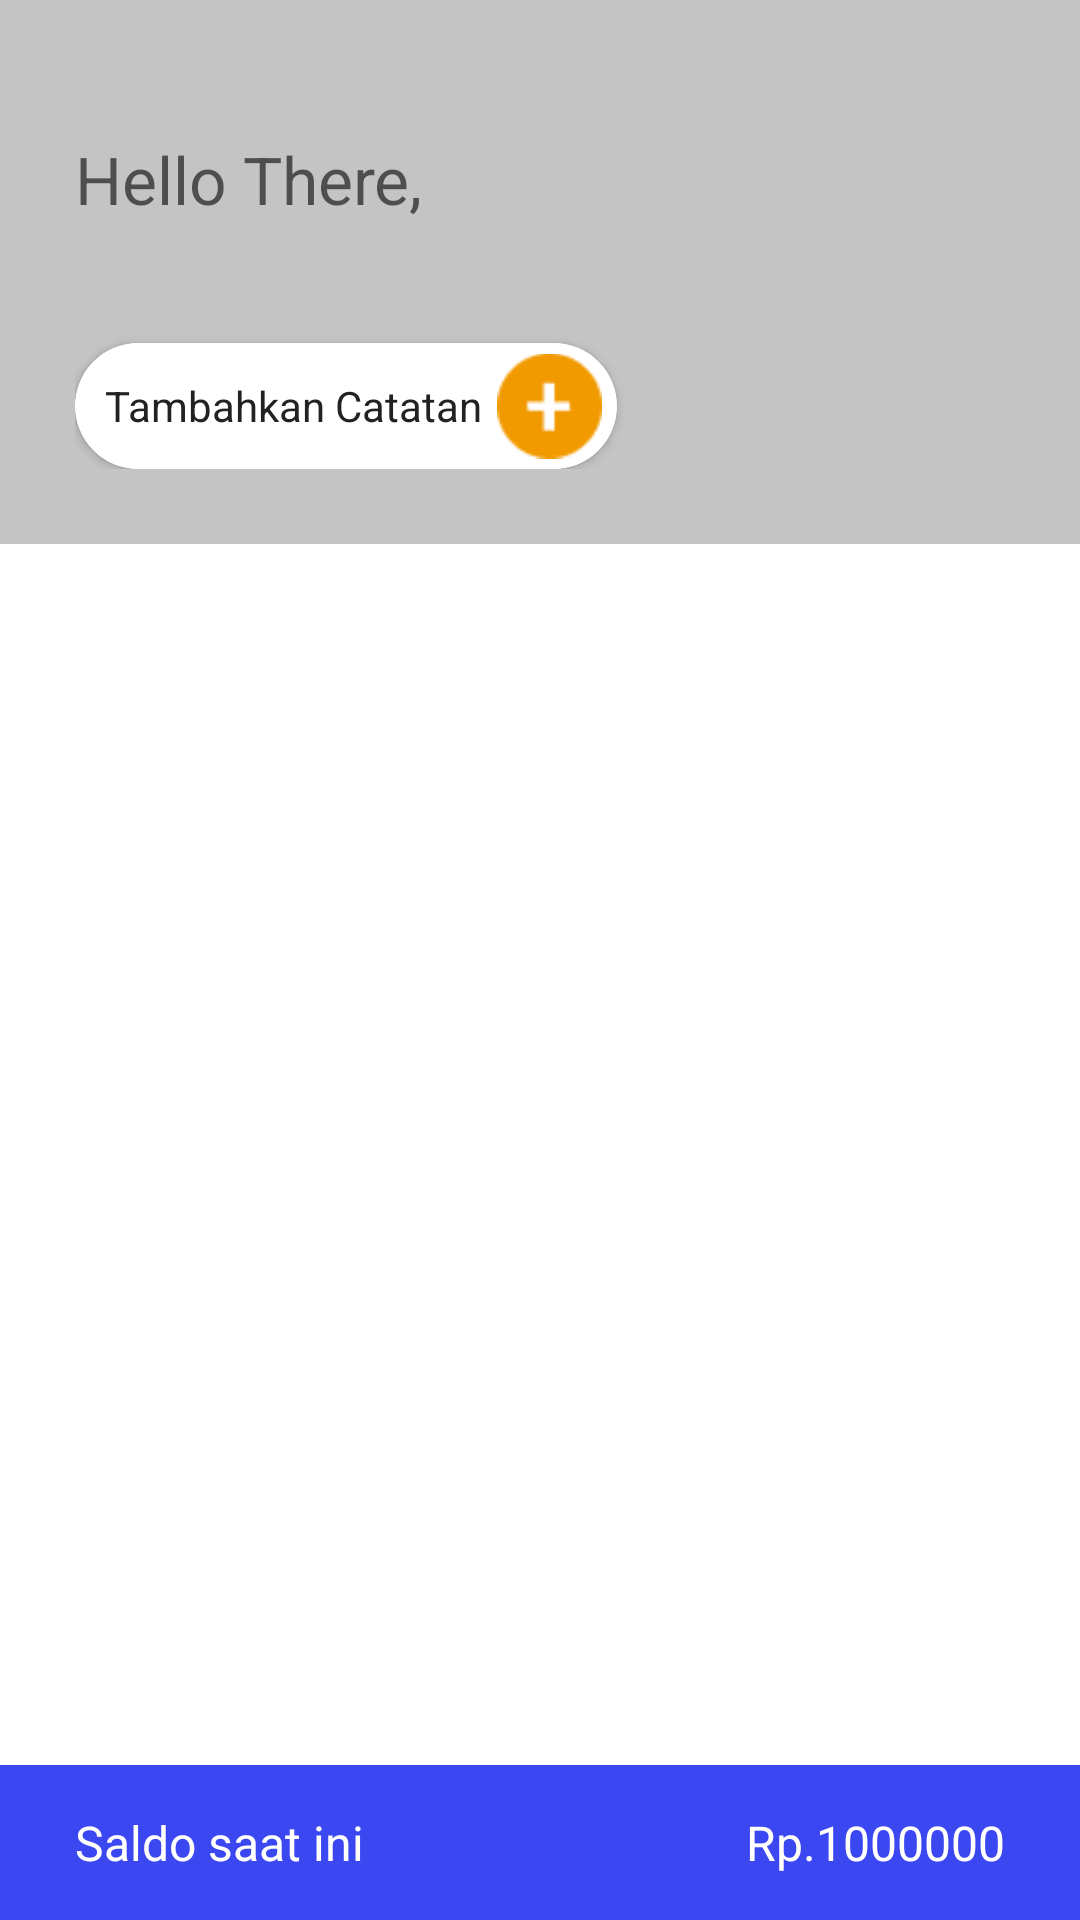

Icon click points for this 1080*1920 phone screenshot, format [x,y]:
plus: [549,406]
